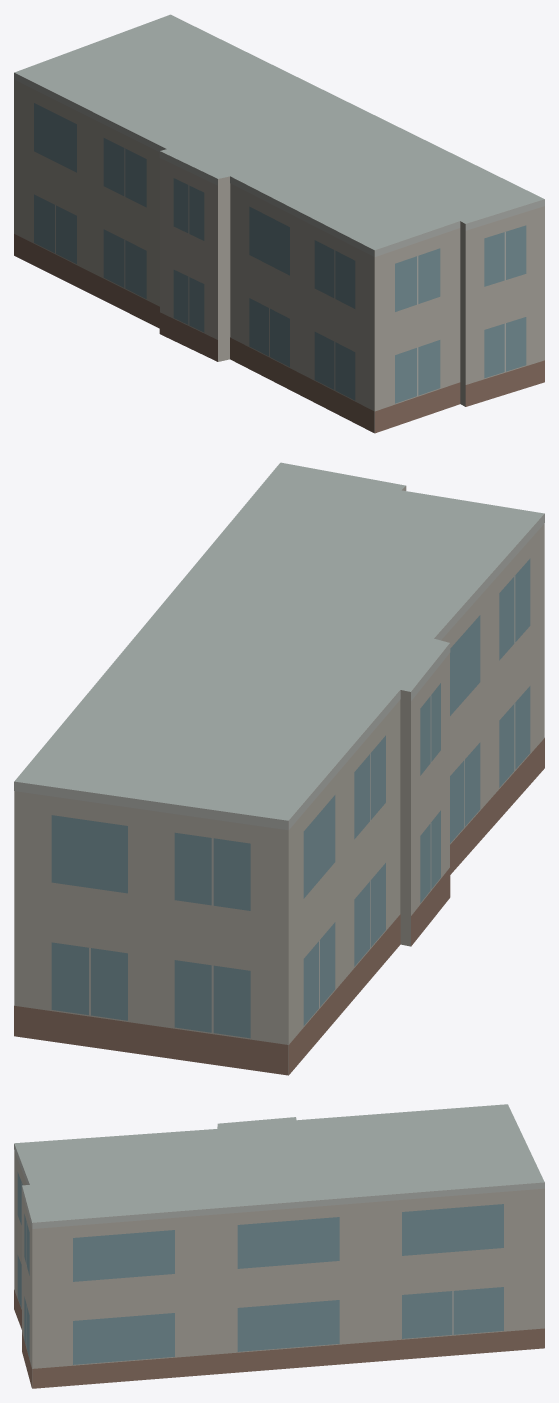
File: survey-upis-32607813.glb
The picture shows the model from 3 angles, top to bottom: view 1: azimuth 30°, elevation 25°; view 2: azimuth 150°, elevation 25°; view 3: azimuth 270°, elevation 25°; orthographic projection. The views are drawn at different scales.
Visible parts, largest first — view 1: survey-upis-32607813.tmp; view 2: survey-upis-32607813.tmp; view 3: survey-upis-32607813.tmp.
Part boxes in pixels (x1,y1,x2,y2): survey-upis-32607813.tmp: [14, 14, 544, 433]; survey-upis-32607813.tmp: [14, 462, 544, 1075]; survey-upis-32607813.tmp: [14, 1104, 544, 1388].
Size of the model in its own units: 9.98 by 6.5 by 18.86.
